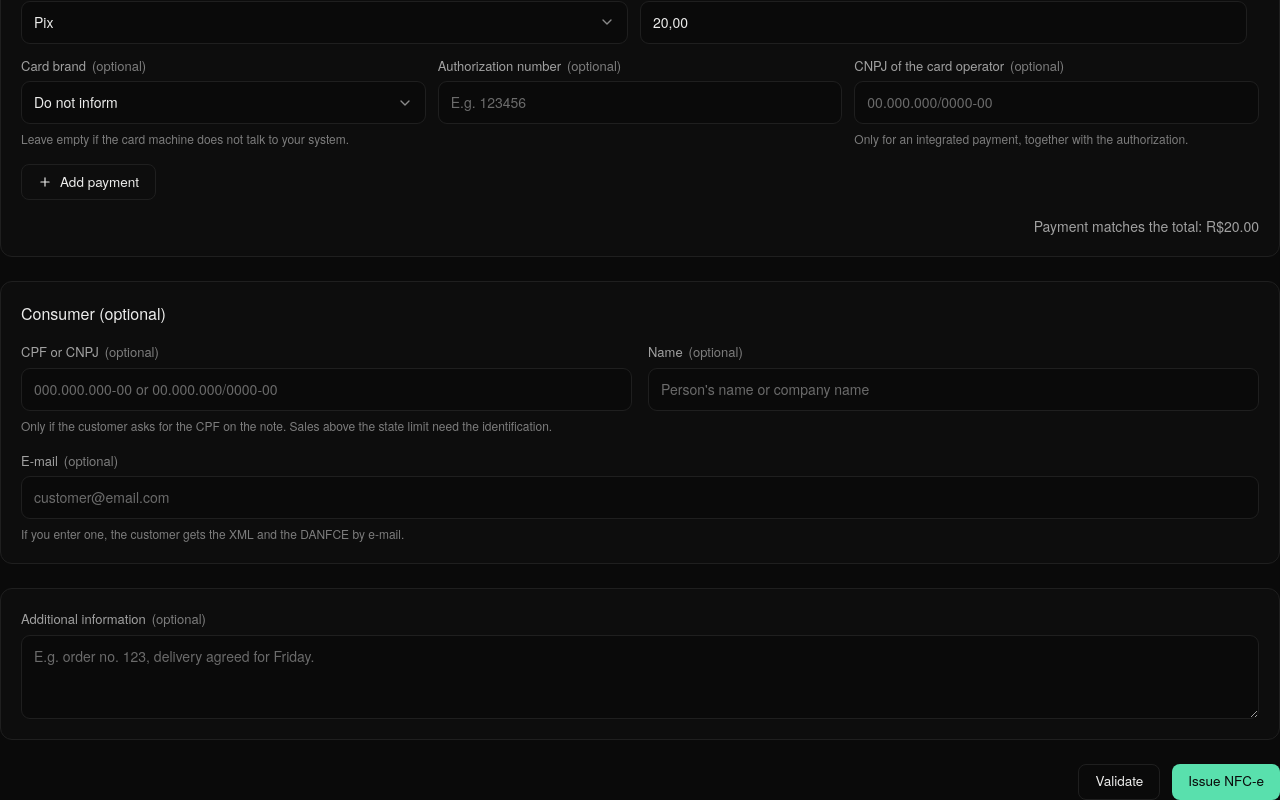
it: NfceForm › a validation sends nothing
(page scrolled)
Click the button "Validate": [1119, 782] box [1078,764,1160,799]
(page scrolled)
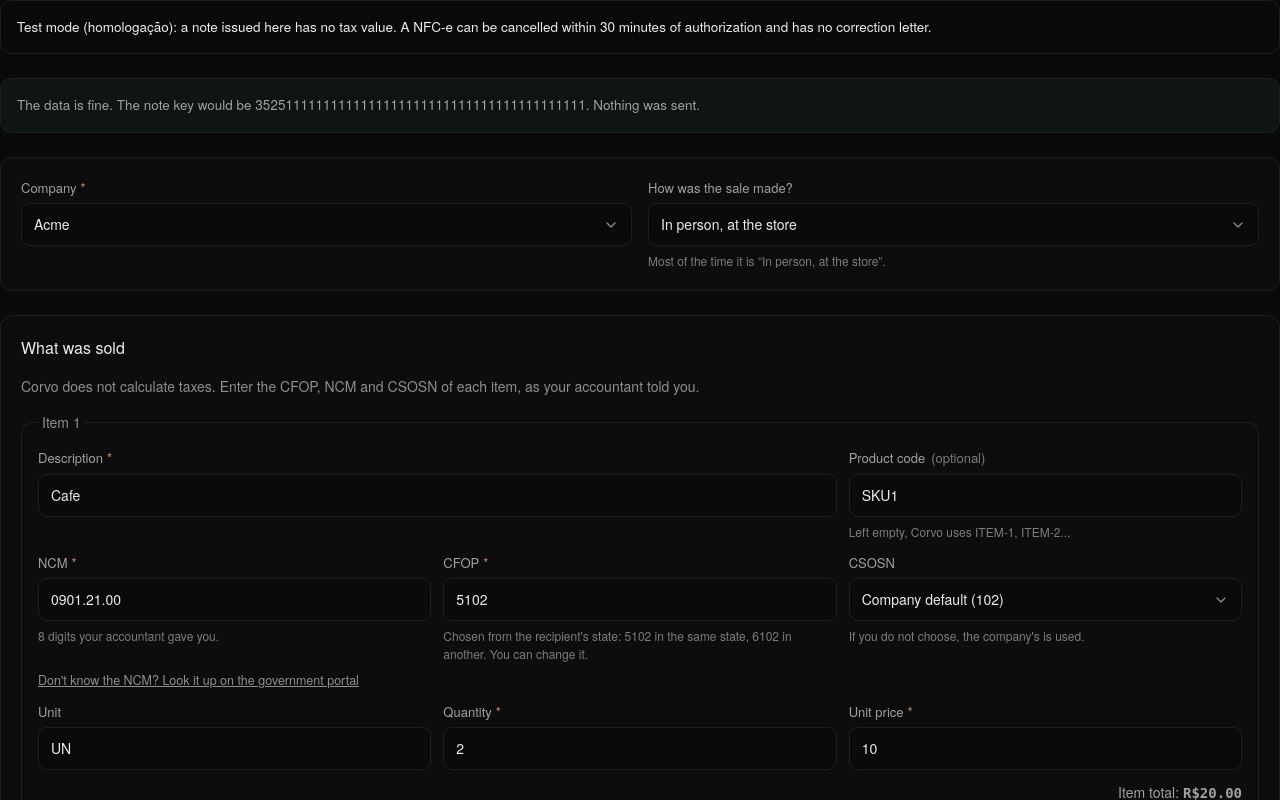
Check: the text "The data is fine" is shown, box [17,95,700,114]
